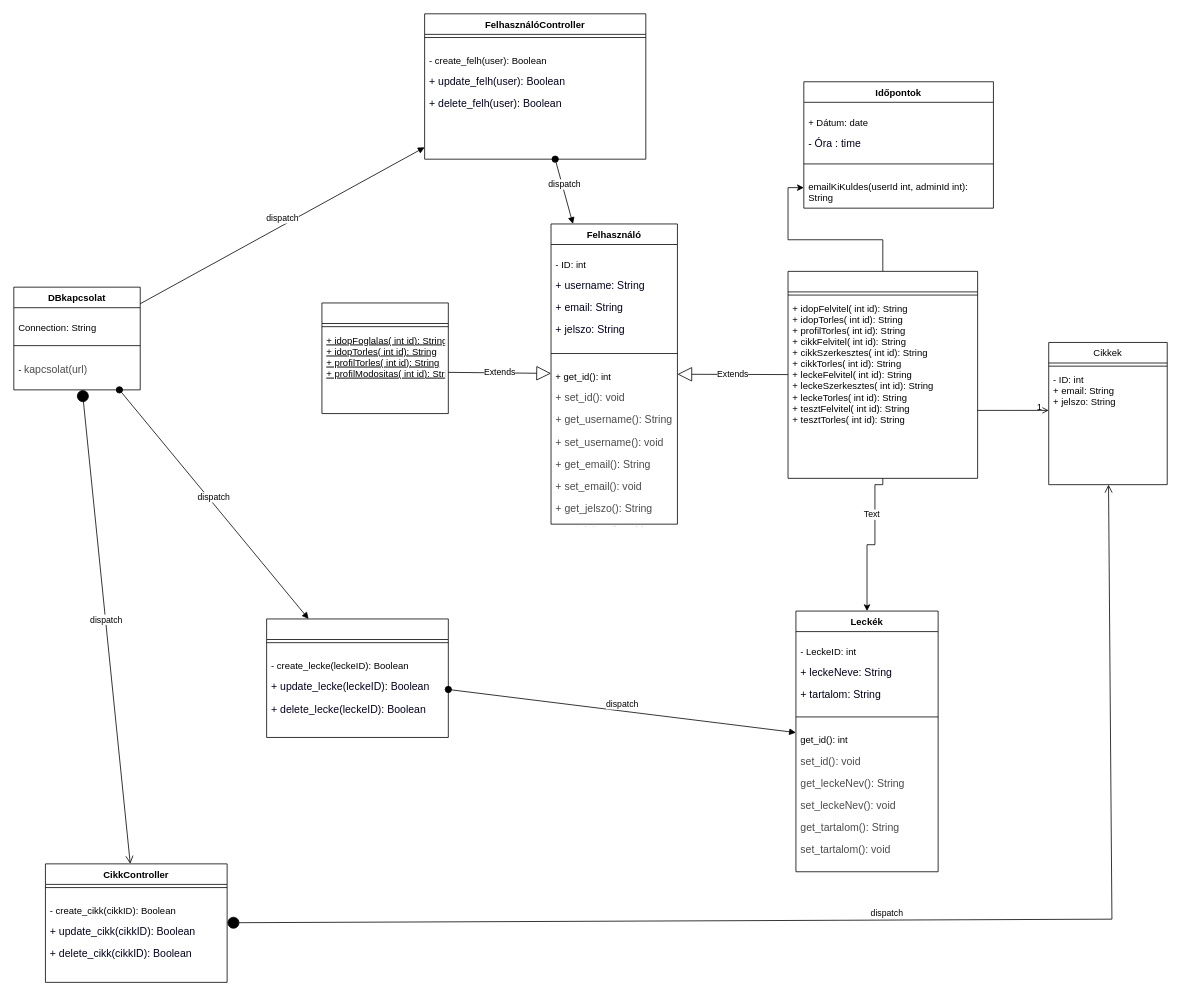
This 1181x999 diagram has some shape labels left out. Each missing label, with the box of its shape:
Admin: (787, 271, 978, 478)
LeckeController: (266, 618, 448, 737)
RegisztráltFelhasználó: (321, 302, 448, 414)
